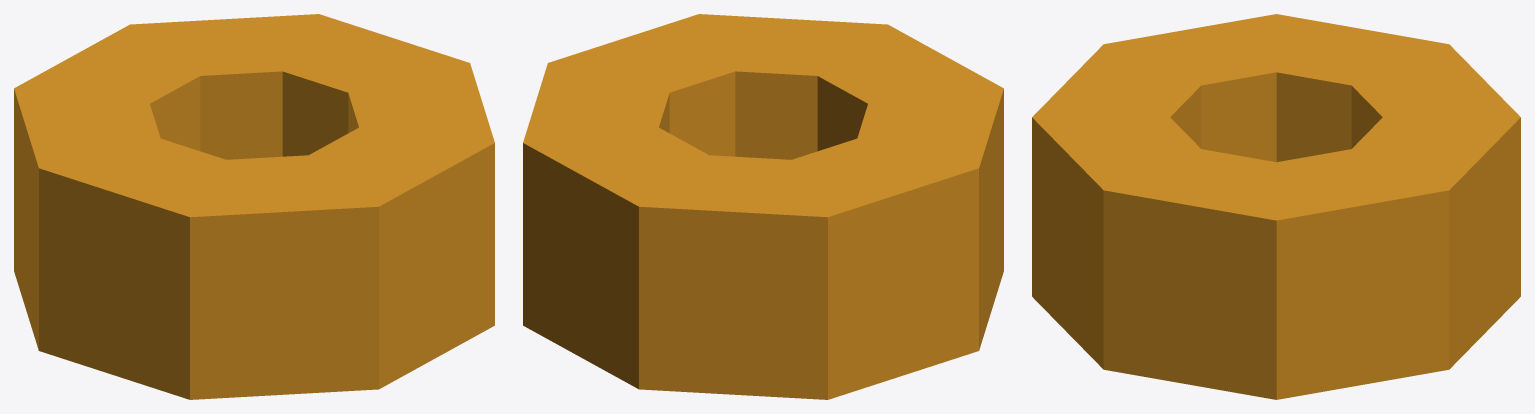
Rendered from Chariot03_lingjian_02.FBX.
3 renders of one model, left to right at view 1: azimuth 30°, elevation 25°; view 2: azimuth 150°, elevation 25°; view 3: azimuth 270°, elevation 25°, orthographic.
Visible parts, largest first — view 1: Chariot03_lingjian_02; view 2: Chariot03_lingjian_02; view 3: Chariot03_lingjian_02.
Part boxes in pixels (x1,y1,x2,y2): Chariot03_lingjian_02: [14, 14, 494, 399]; Chariot03_lingjian_02: [523, 14, 1003, 399]; Chariot03_lingjian_02: [1032, 14, 1520, 399].
Bounding box in the file's own units: 0.1756 × 0.0711 × 0.1756.
